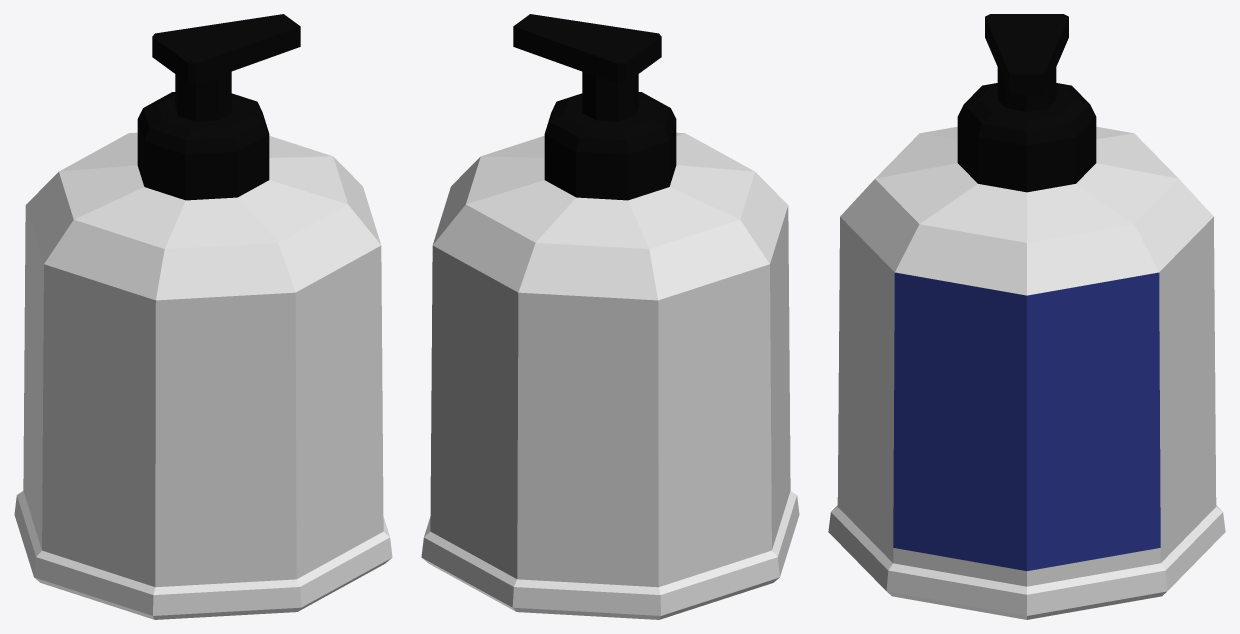
The model's file is Ma_Soap_Liquid_2.fbx.
3 renders of one model, left to right at view 1: azimuth 30°, elevation 25°; view 2: azimuth 150°, elevation 25°; view 3: azimuth 270°, elevation 25°, orthographic.
Visible parts, largest first — view 1: Ma_Soap_Liquid_2; view 2: Ma_Soap_Liquid_2; view 3: Ma_Soap_Liquid_2.
Boxes of the visible parts, box(x1,y1,x2,y2) form: Ma_Soap_Liquid_2: box(14, 14, 392, 619); Ma_Soap_Liquid_2: box(421, 14, 799, 619); Ma_Soap_Liquid_2: box(828, 14, 1225, 619).
Size of the model in its own units: 74.29 by 74.29 by 105.
